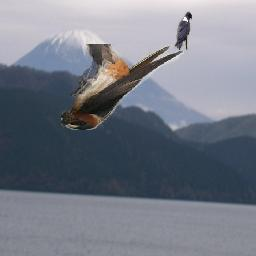Crow: (174, 12, 192, 51)
Swallow: (62, 44, 185, 130)
